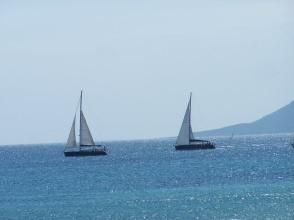fanchuan: (60, 91, 114, 158), (174, 89, 225, 149)
